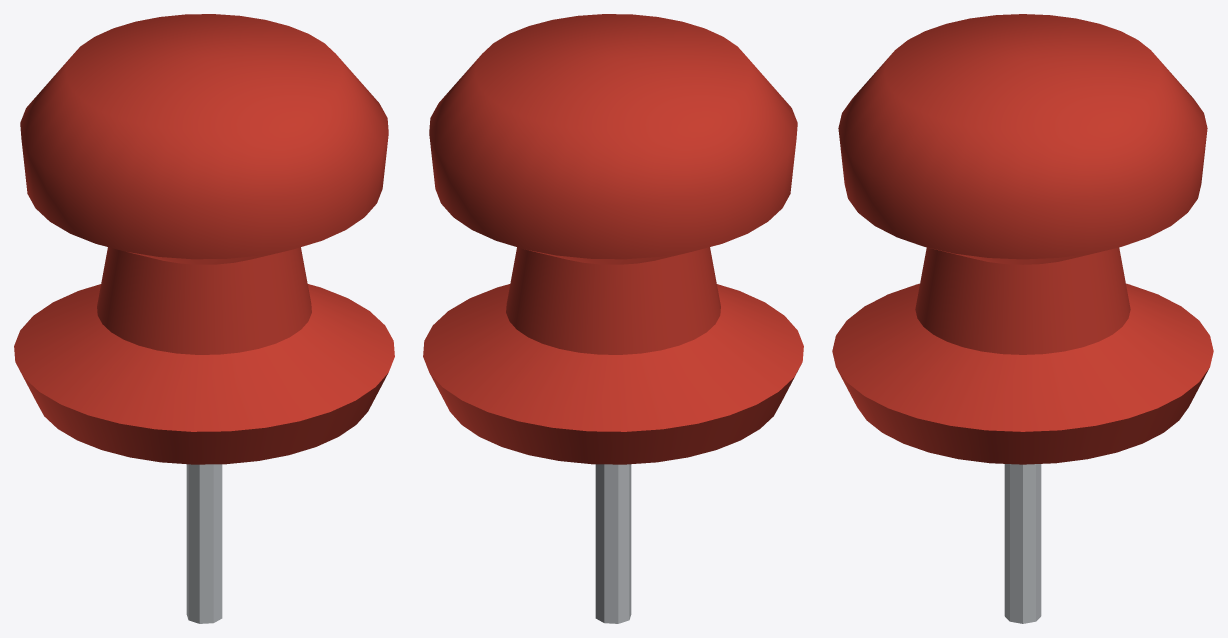
The model's file is pin.fbx.
3 renders of one model, left to right at view 1: azimuth 30°, elevation 25°; view 2: azimuth 150°, elevation 25°; view 3: azimuth 270°, elevation 25°, orthographic.
Parts seen in each view (by area): view 1: head, needle; view 2: head, needle; view 3: head, needle.
Boxes of the visible parts, x1,y1,x2,y2 form: head: (14, 14, 394, 464); needle: (186, 464, 222, 623); head: (423, 14, 803, 464); needle: (595, 464, 631, 623); head: (832, 14, 1213, 464); needle: (1004, 464, 1041, 623).
Bounding box in the file's own units: 0.0124 × 0.02 × 0.0124.
